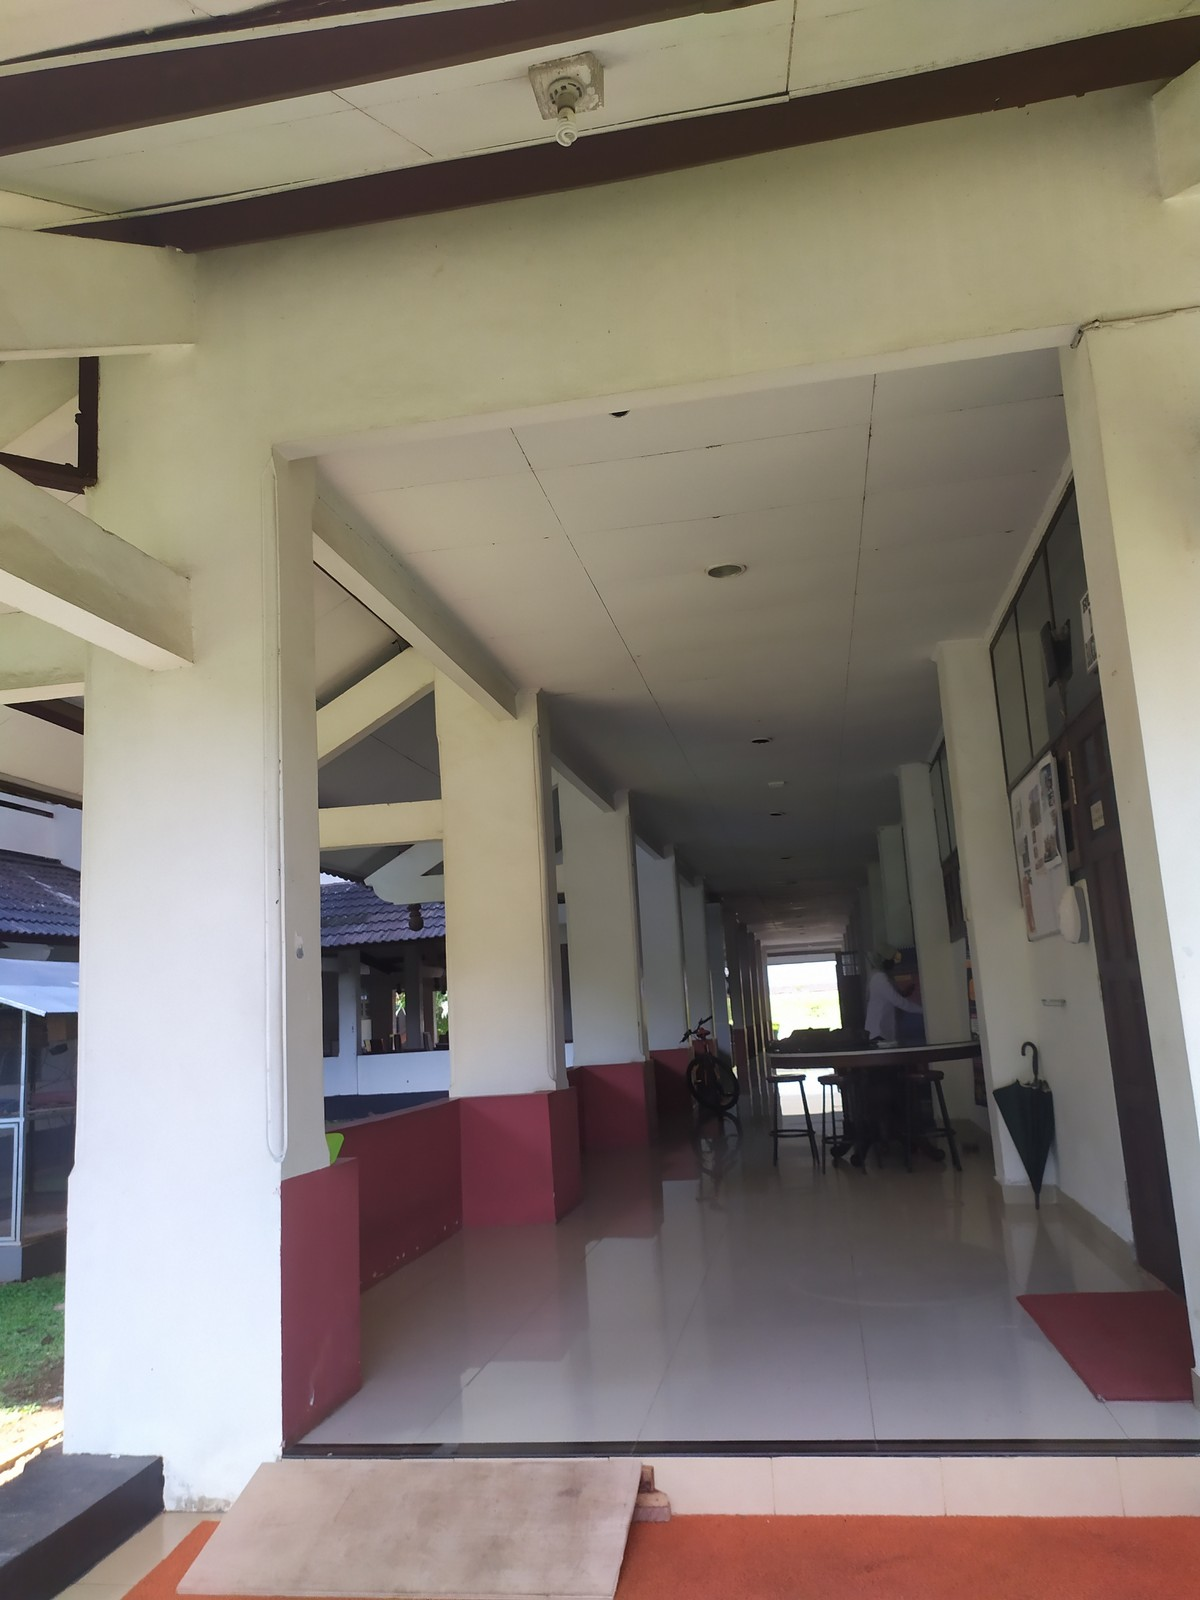concrete beam: (13, 488, 211, 695)
concrete column: (76, 367, 337, 1284), (429, 675, 580, 1096), (561, 784, 658, 1070)
